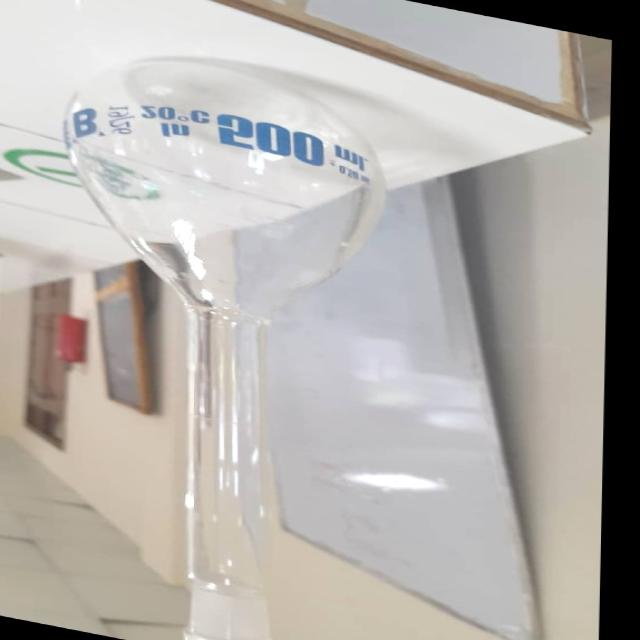Volumetric flask: (49, 29, 400, 640)
